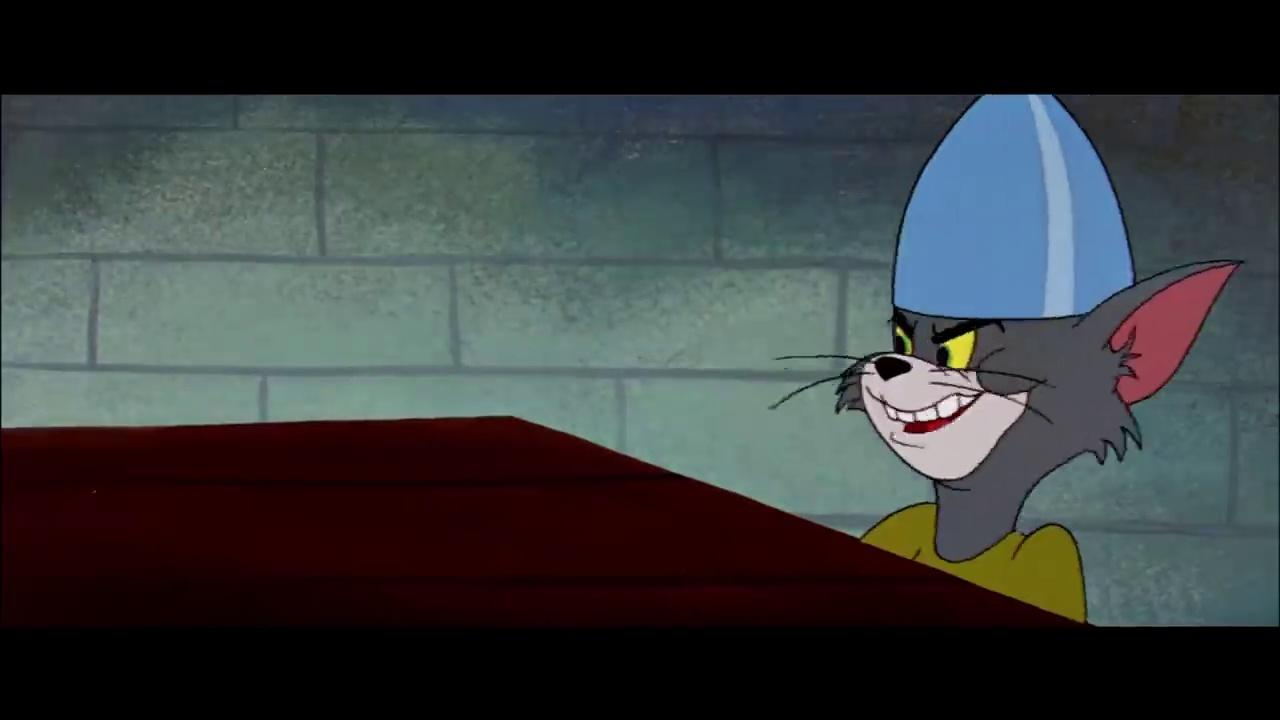Tom: (833, 250, 1248, 566)
